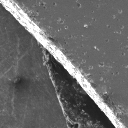corrosion: (97, 60, 106, 68), (57, 17, 65, 25), (39, 1, 46, 8), (75, 3, 82, 9), (83, 23, 89, 29), (117, 8, 123, 14), (106, 24, 112, 29), (52, 1, 57, 6), (104, 38, 109, 43)
